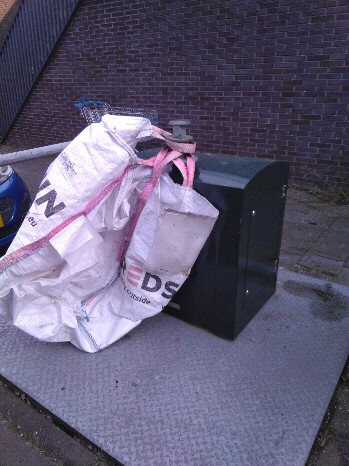Container: (196, 146, 292, 340)
Plastic: (40, 123, 175, 332)
